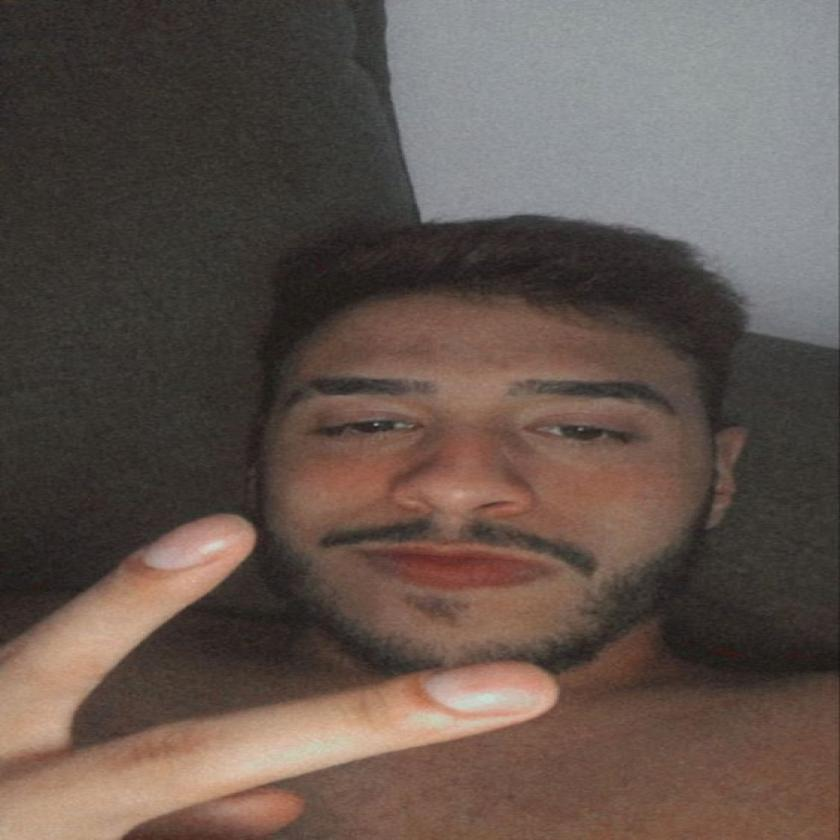Sin_casco: (240, 206, 751, 710)
